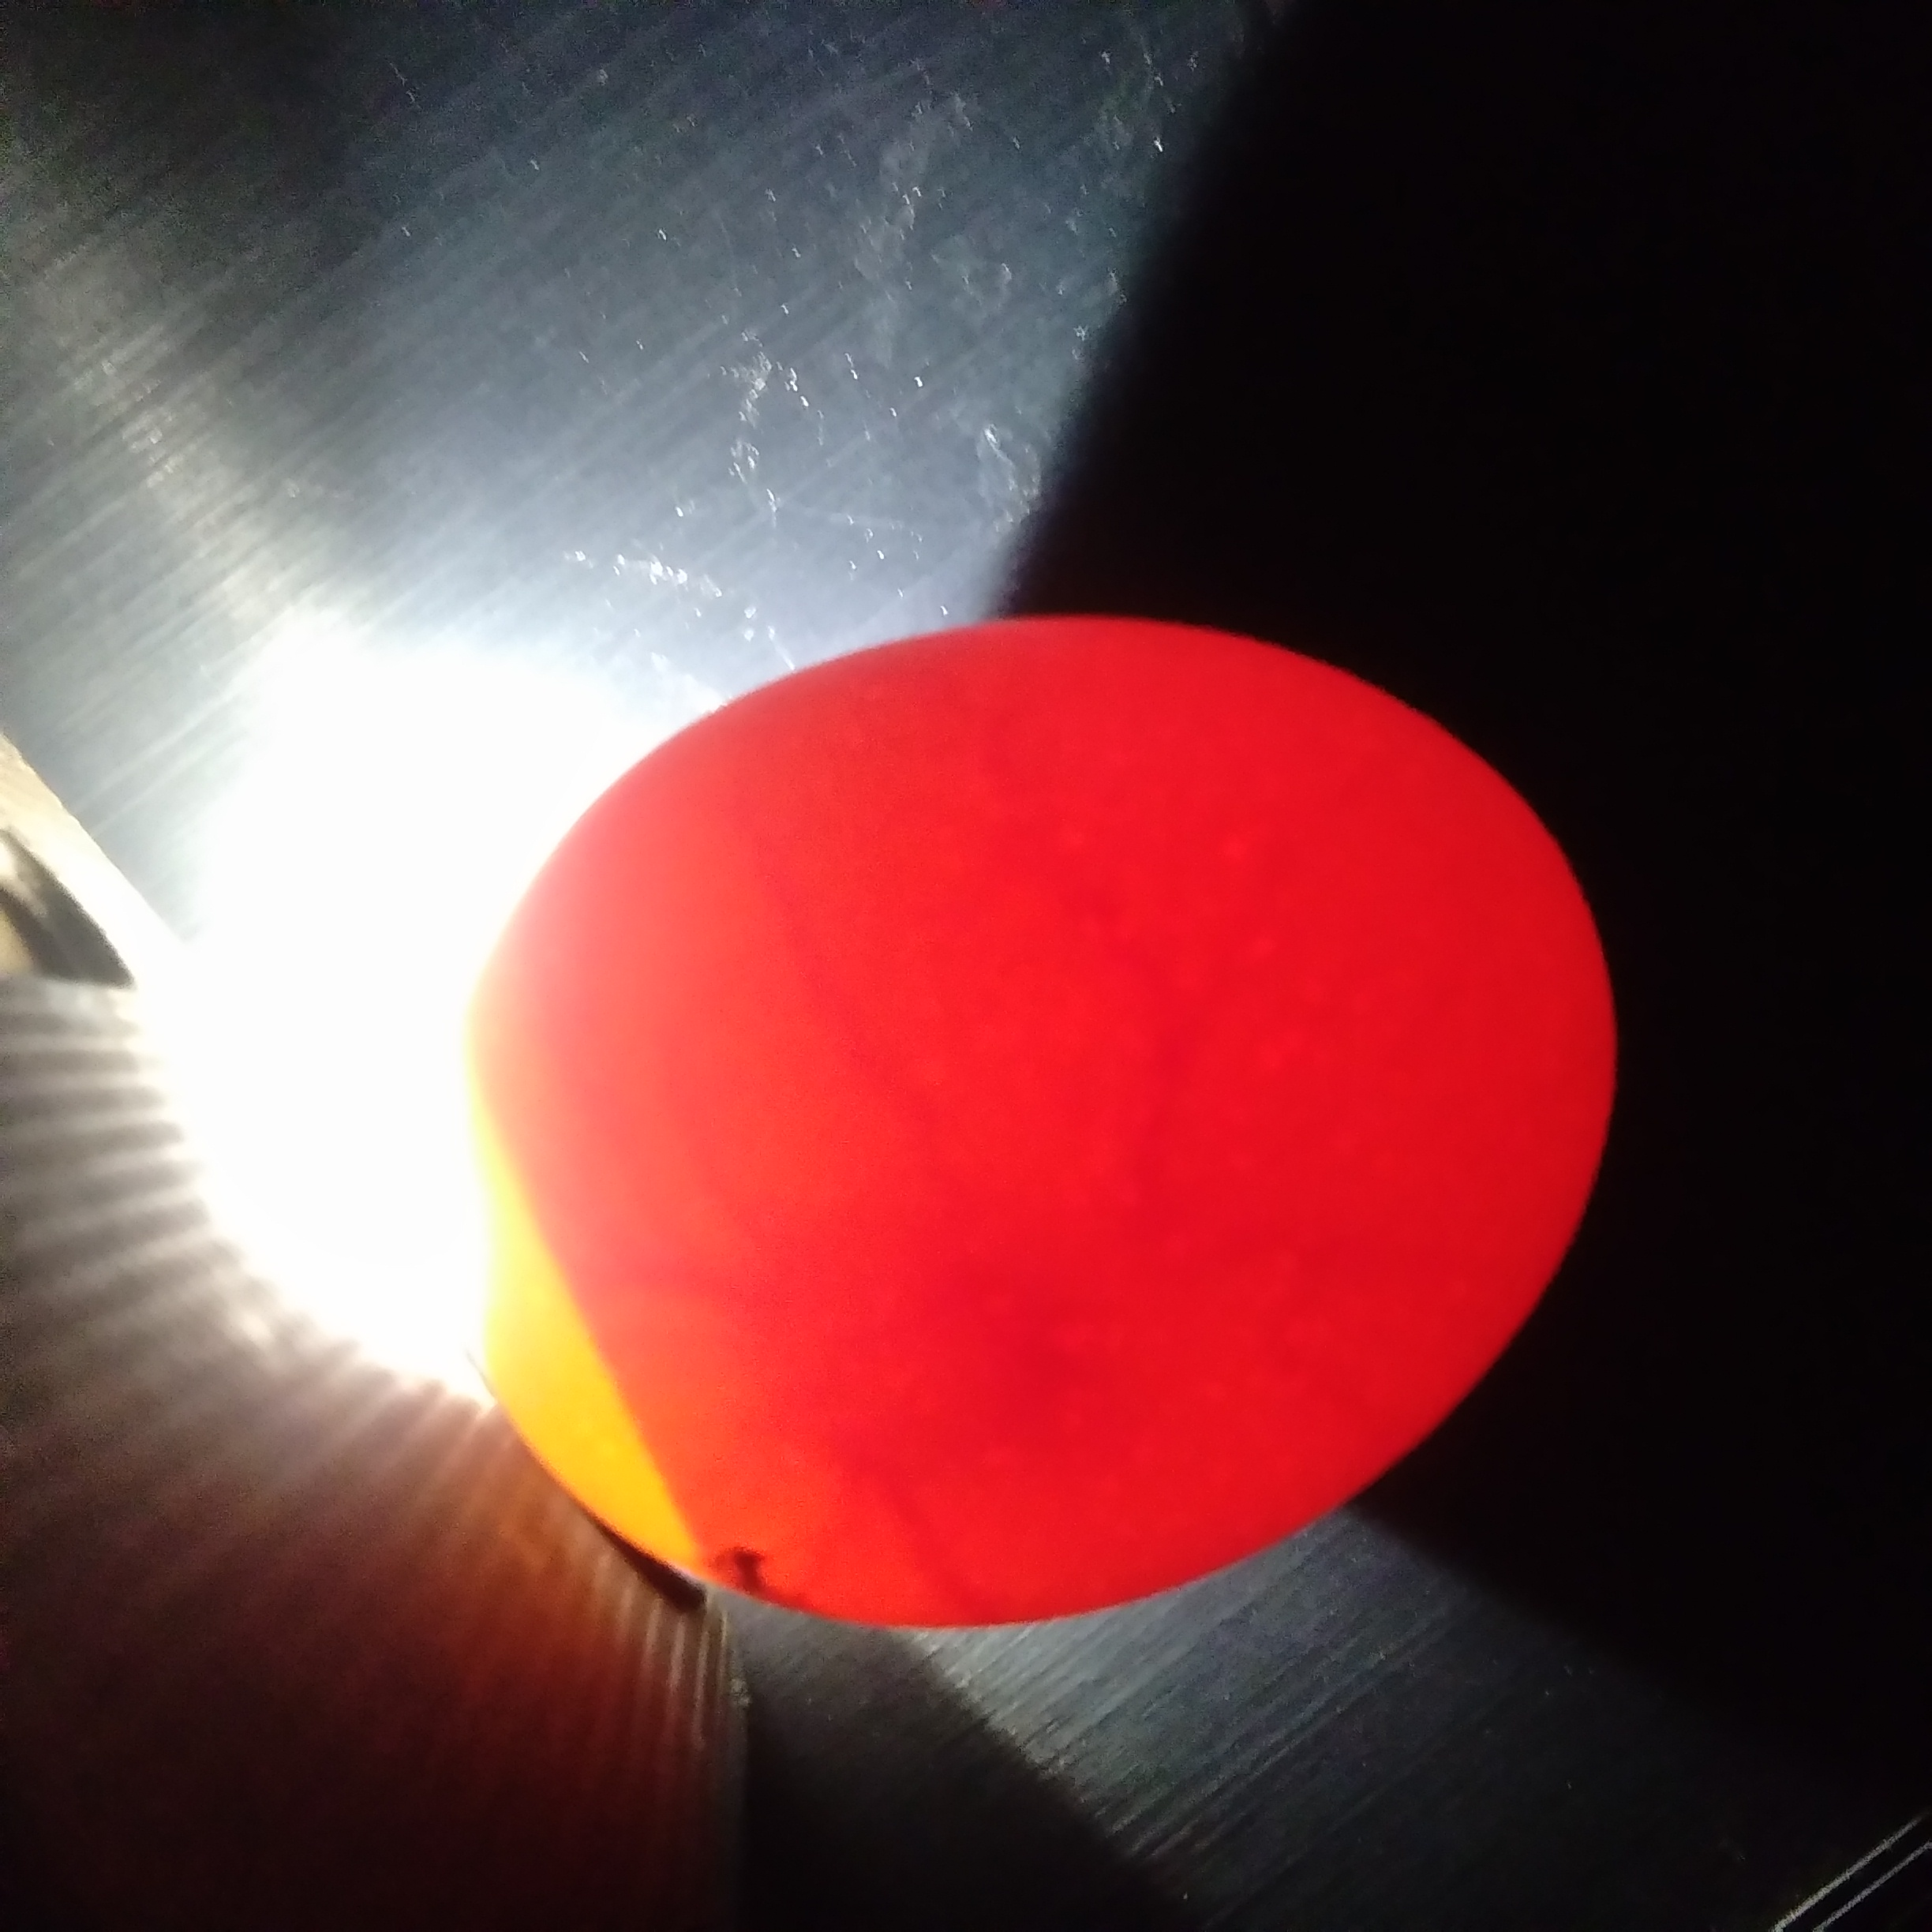bloodcell: (564, 1031, 1274, 1253), (821, 1470, 1097, 1614)
embryo: (908, 1300, 1127, 1435)
